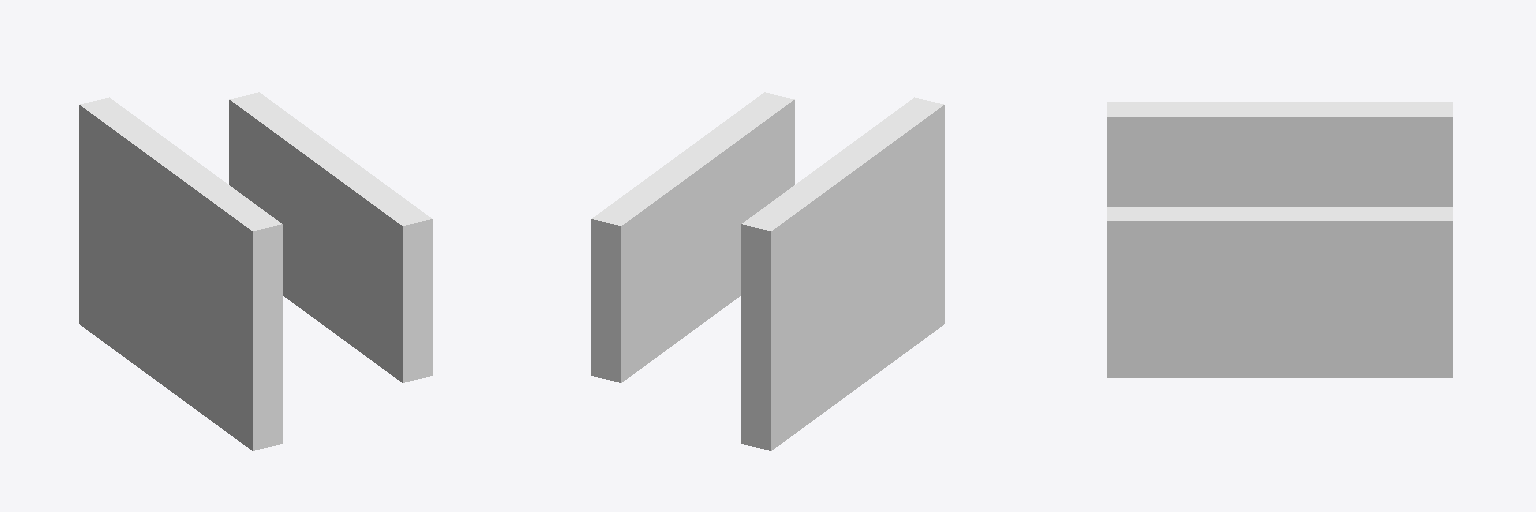
The model's file is Walljump1.obj.
3 views of the same model, side by side, from view 1: azimuth 30°, elevation 25°; view 2: azimuth 150°, elevation 25°; view 3: azimuth 270°, elevation 25° (orthographic).
Parts seen in each view (by area): view 1: object 1; view 2: object 1; view 3: object 1.
Part boxes in pixels (left/top/right/bottom): object 1: left=79, top=92, right=432, bottom=450; object 1: left=591, top=92, right=944, bottom=450; object 1: left=1107, top=102, right=1452, bottom=377.
Size of the model in its own units: 0.6 by 0.7 by 1.